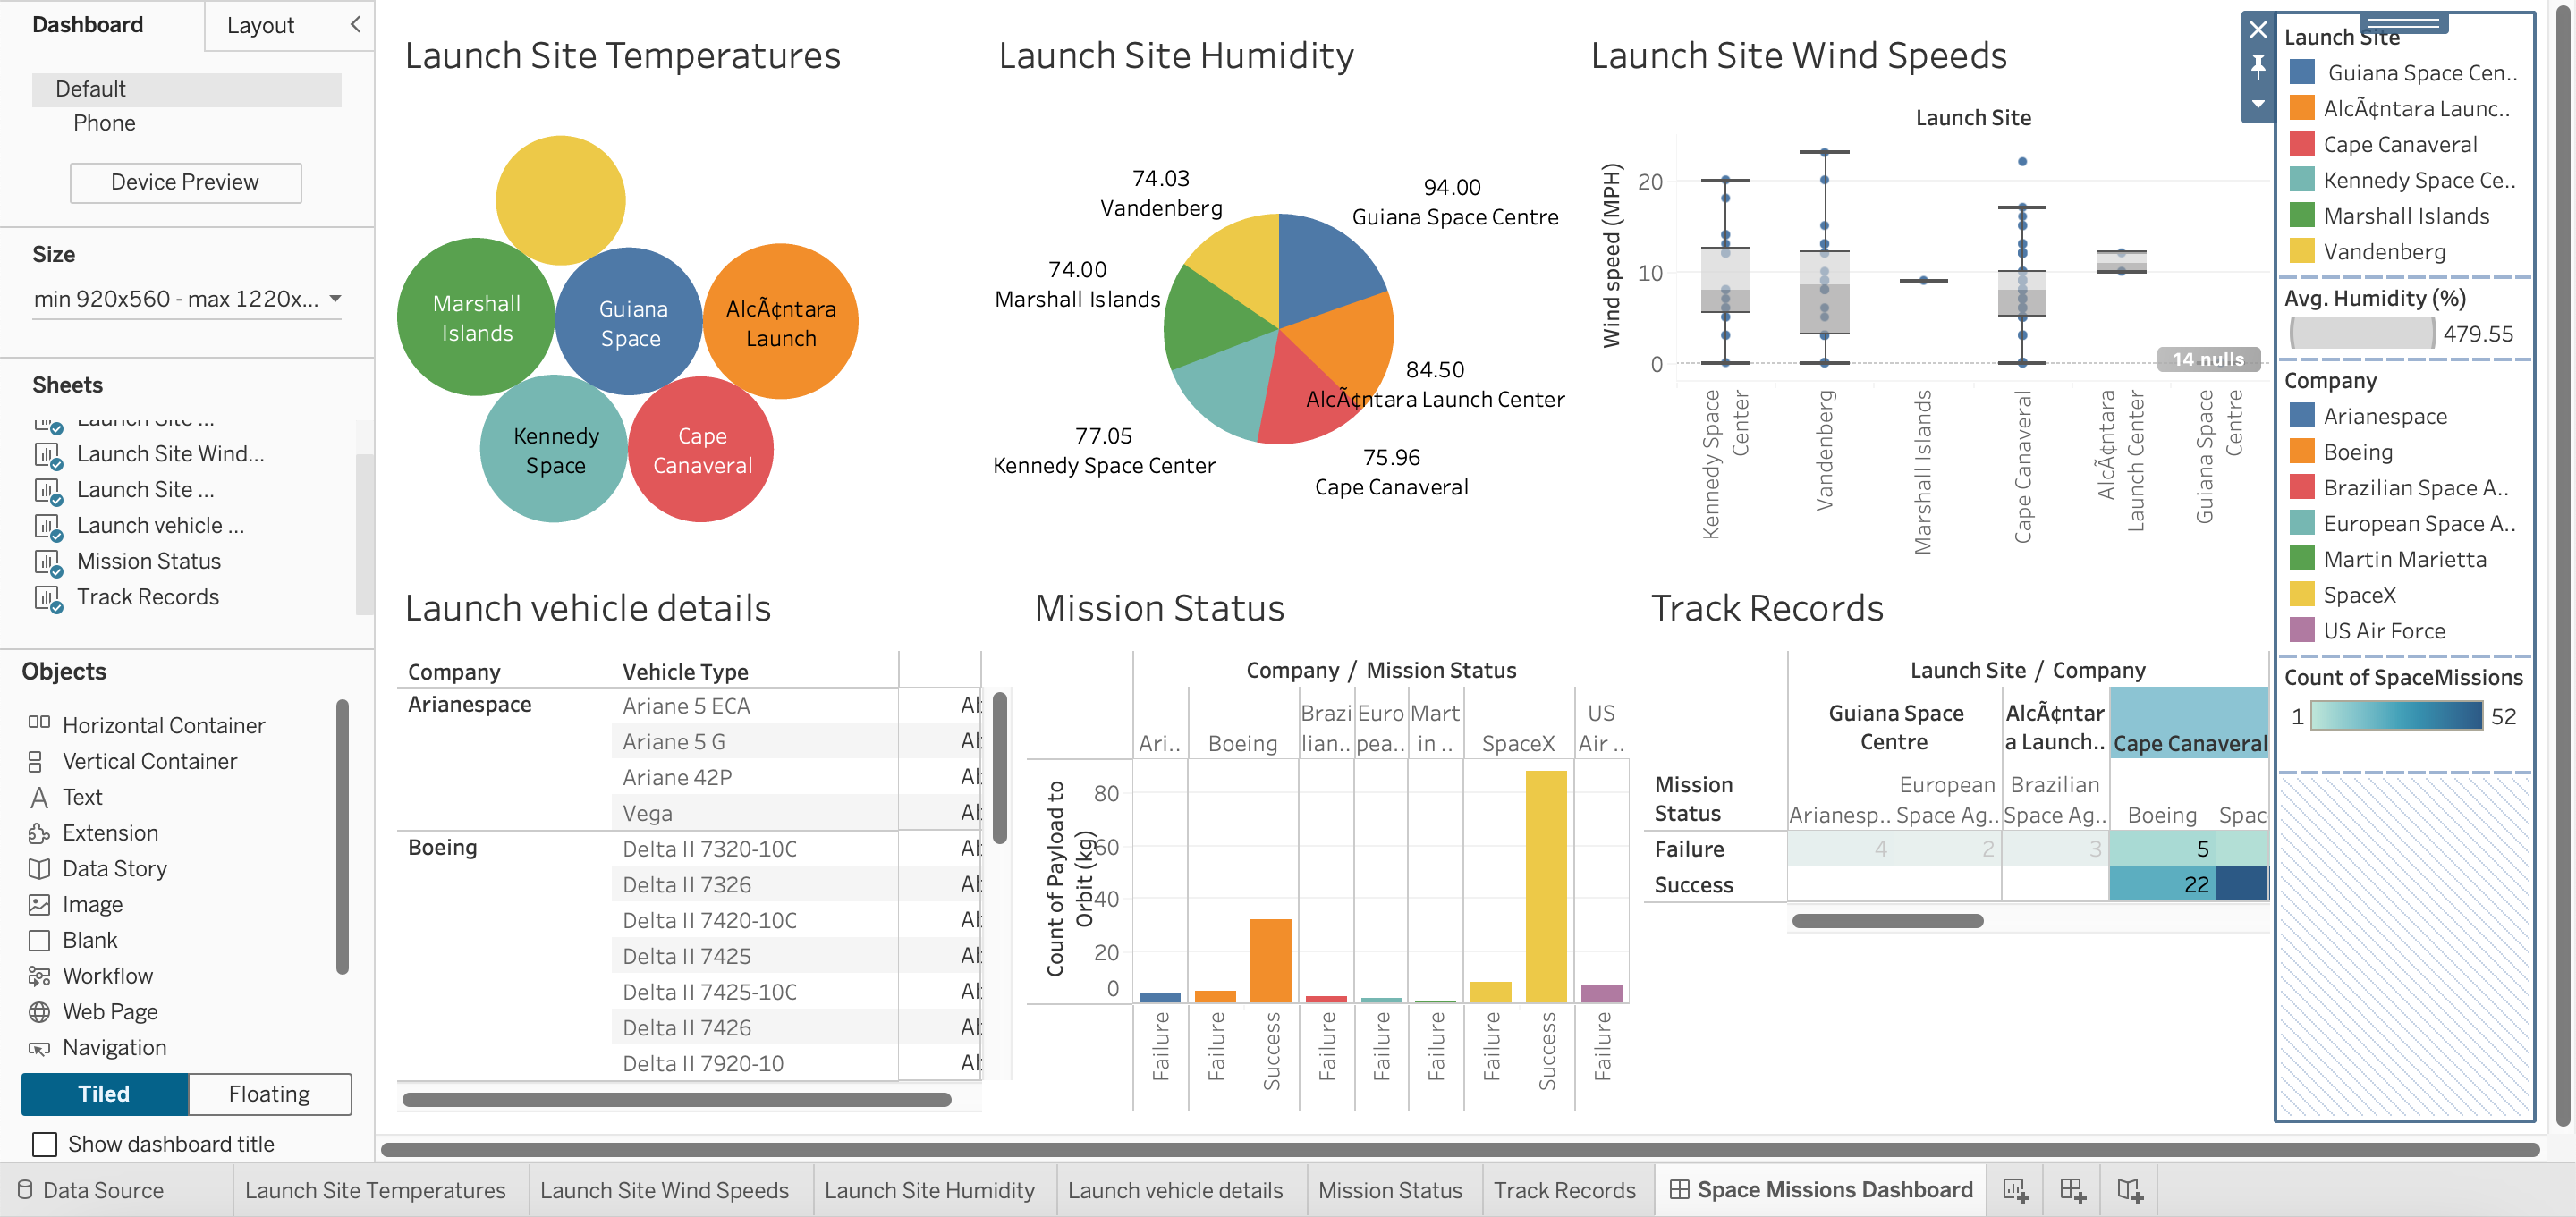

This screenshot's page, from the dashboard's own definition file:
{"tool":"tableau","page":{"name":"Space Missions Dashboard","canvas":[1000,1000],"units":"permille","ordinal":0},"visuals":[{"type":"worksheet","title":"Launch Site Temperatures","mark":"Circle","box":[6.6,12.6,273.8,487.4]},{"type":"worksheet","title":"Launch Site Humidity","mark":"Pie","box":[280.4,12.6,272.1,487.4]},{"type":"worksheet","title":"Launch Site Wind Speeds","mark":"Circle","rows":["Wind speed (MPH)"],"cols":["Launch Site"],"box":[552.5,12.6,323.2,487.4]},{"type":"legend","title":"Launch Site Temperatures","param":"[federated.1s2rn8z0wtzu5k1gaccv40hzw05a].[none:Launch Site:nk]","box":[875.6,12.6,117.8,230.3]},{"type":"legend","title":"Launch Site Humidity","param":"[federated.1s2rn8z0wtzu5k1gaccv40hzw05a].[avg:Humidity (%):qk]","box":[875.6,242.9,117.8,72.6]},{"type":"legend","title":"Mission Status","param":"[federated.1s2rn8z0wtzu5k1gaccv40hzw05a].[none:Company:nk]","box":[875.6,315.5,117.8,261.8]},{"type":"worksheet","title":"Launch vehicle details","mark":"Automatic","rows":["Company","Vehicle Type"],"box":[6.6,500,289.7,487.4]},{"type":"worksheet","title":"Mission Status","mark":"Automatic","rows":["Payload to Orbit (kg)"],"cols":["Company","Mission Status"],"box":[296.3,500,284.6,487.4]},{"type":"worksheet","title":"Track Records","mark":"Square","rows":["Mission Status"],"cols":["Launch Site","Company"],"box":[580.9,500,294.7,487.4]},{"type":"legend","title":"Track Records","param":"[federated.1s2rn8z0wtzu5k1gaccv40hzw05a].[__tableau_internal_object_id__].[cnt:S","box":[875.6,577.3,117.8,102.5]}]}

Visuals, with their boxes on the dashboard's canvas, which has no fixed pixel size, in thousandths of its width and height (x1, y1, x2, y2). These are canvas units, not pixel positions in the 2576x1217 screenshot, which may show the page scaled, cropped or inside an application window:
"Launch Site Temperatures" worksheet (Circle marks): {"left": 7, "top": 13, "right": 280, "bottom": 500}
"Launch Site Humidity" worksheet (Pie marks): {"left": 280, "top": 13, "right": 552, "bottom": 500}
"Launch Site Wind Speeds" worksheet (Circle marks): {"left": 552, "top": 13, "right": 876, "bottom": 500}
"Launch Site Temperatures" legend: {"left": 876, "top": 13, "right": 993, "bottom": 243}
"Launch Site Humidity" legend: {"left": 876, "top": 243, "right": 993, "bottom": 316}
"Mission Status" legend: {"left": 876, "top": 316, "right": 993, "bottom": 577}
"Launch vehicle details" worksheet: {"left": 7, "top": 500, "right": 296, "bottom": 987}
"Mission Status" worksheet: {"left": 296, "top": 500, "right": 581, "bottom": 987}
"Track Records" worksheet (Square marks): {"left": 581, "top": 500, "right": 876, "bottom": 987}
"Track Records" legend: {"left": 876, "top": 577, "right": 993, "bottom": 680}
